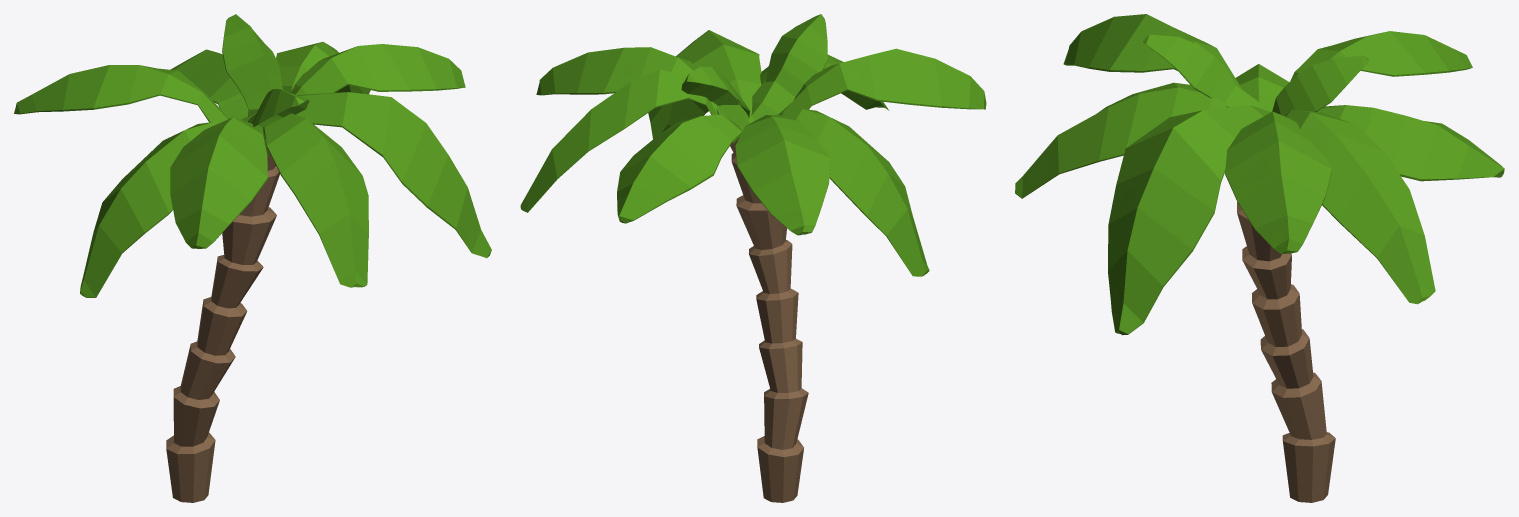
File: palm.fbx
The picture shows the model from 3 angles, left to right: view 1: azimuth 30°, elevation 25°; view 2: azimuth 150°, elevation 25°; view 3: azimuth 270°, elevation 25°; orthographic projection. The views are drawn at different scales.
Parts seen in each view (by area): view 1: Cylinder.006; view 2: Cylinder.006; view 3: Cylinder.006.
Boxes of the visible parts, bbox=[...] form: Cylinder.006: bbox=[14, 14, 491, 502]; Cylinder.006: bbox=[520, 14, 986, 502]; Cylinder.006: bbox=[1015, 14, 1504, 502].
Size of the model in its own units: 731 by 786 by 732.
